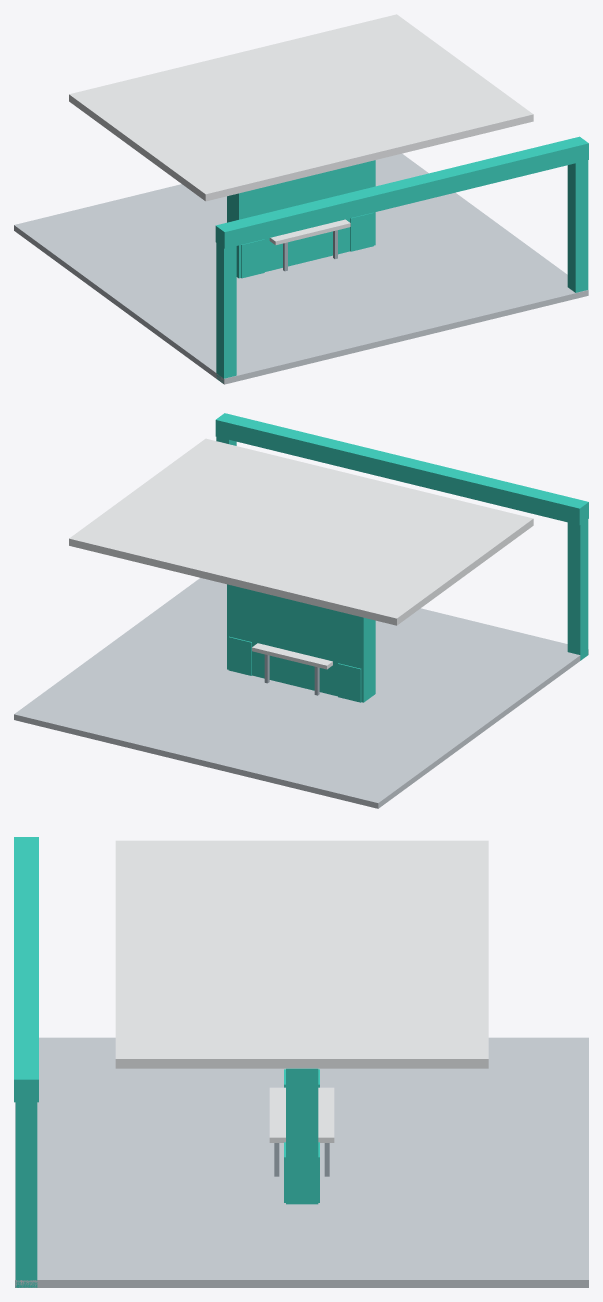
The picture shows the model from 3 angles, top to bottom: view 1: azimuth 30°, elevation 25°; view 2: azimuth 150°, elevation 25°; view 3: azimuth 270°, elevation 25°; orthographic projection. The views are drawn at different scales.
Visible parts, largest first — view 1: Exhibition Booth Concept; view 2: Exhibition Booth Concept; view 3: Exhibition Booth Concept.
Part boxes in pixels (x1=…): Exhibition Booth Concept: x1=14, y1=14, x2=588, y2=384; Exhibition Booth Concept: x1=14, y1=413, x2=588, y2=808; Exhibition Booth Concept: x1=14, y1=837, x2=588, y2=1287.
Bounding box in the file's own units: 8 × 3.34 × 8.01.
